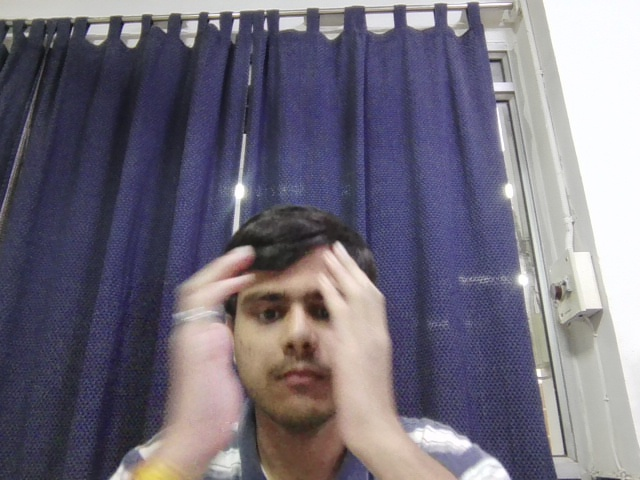face: (236, 229, 334, 422)
